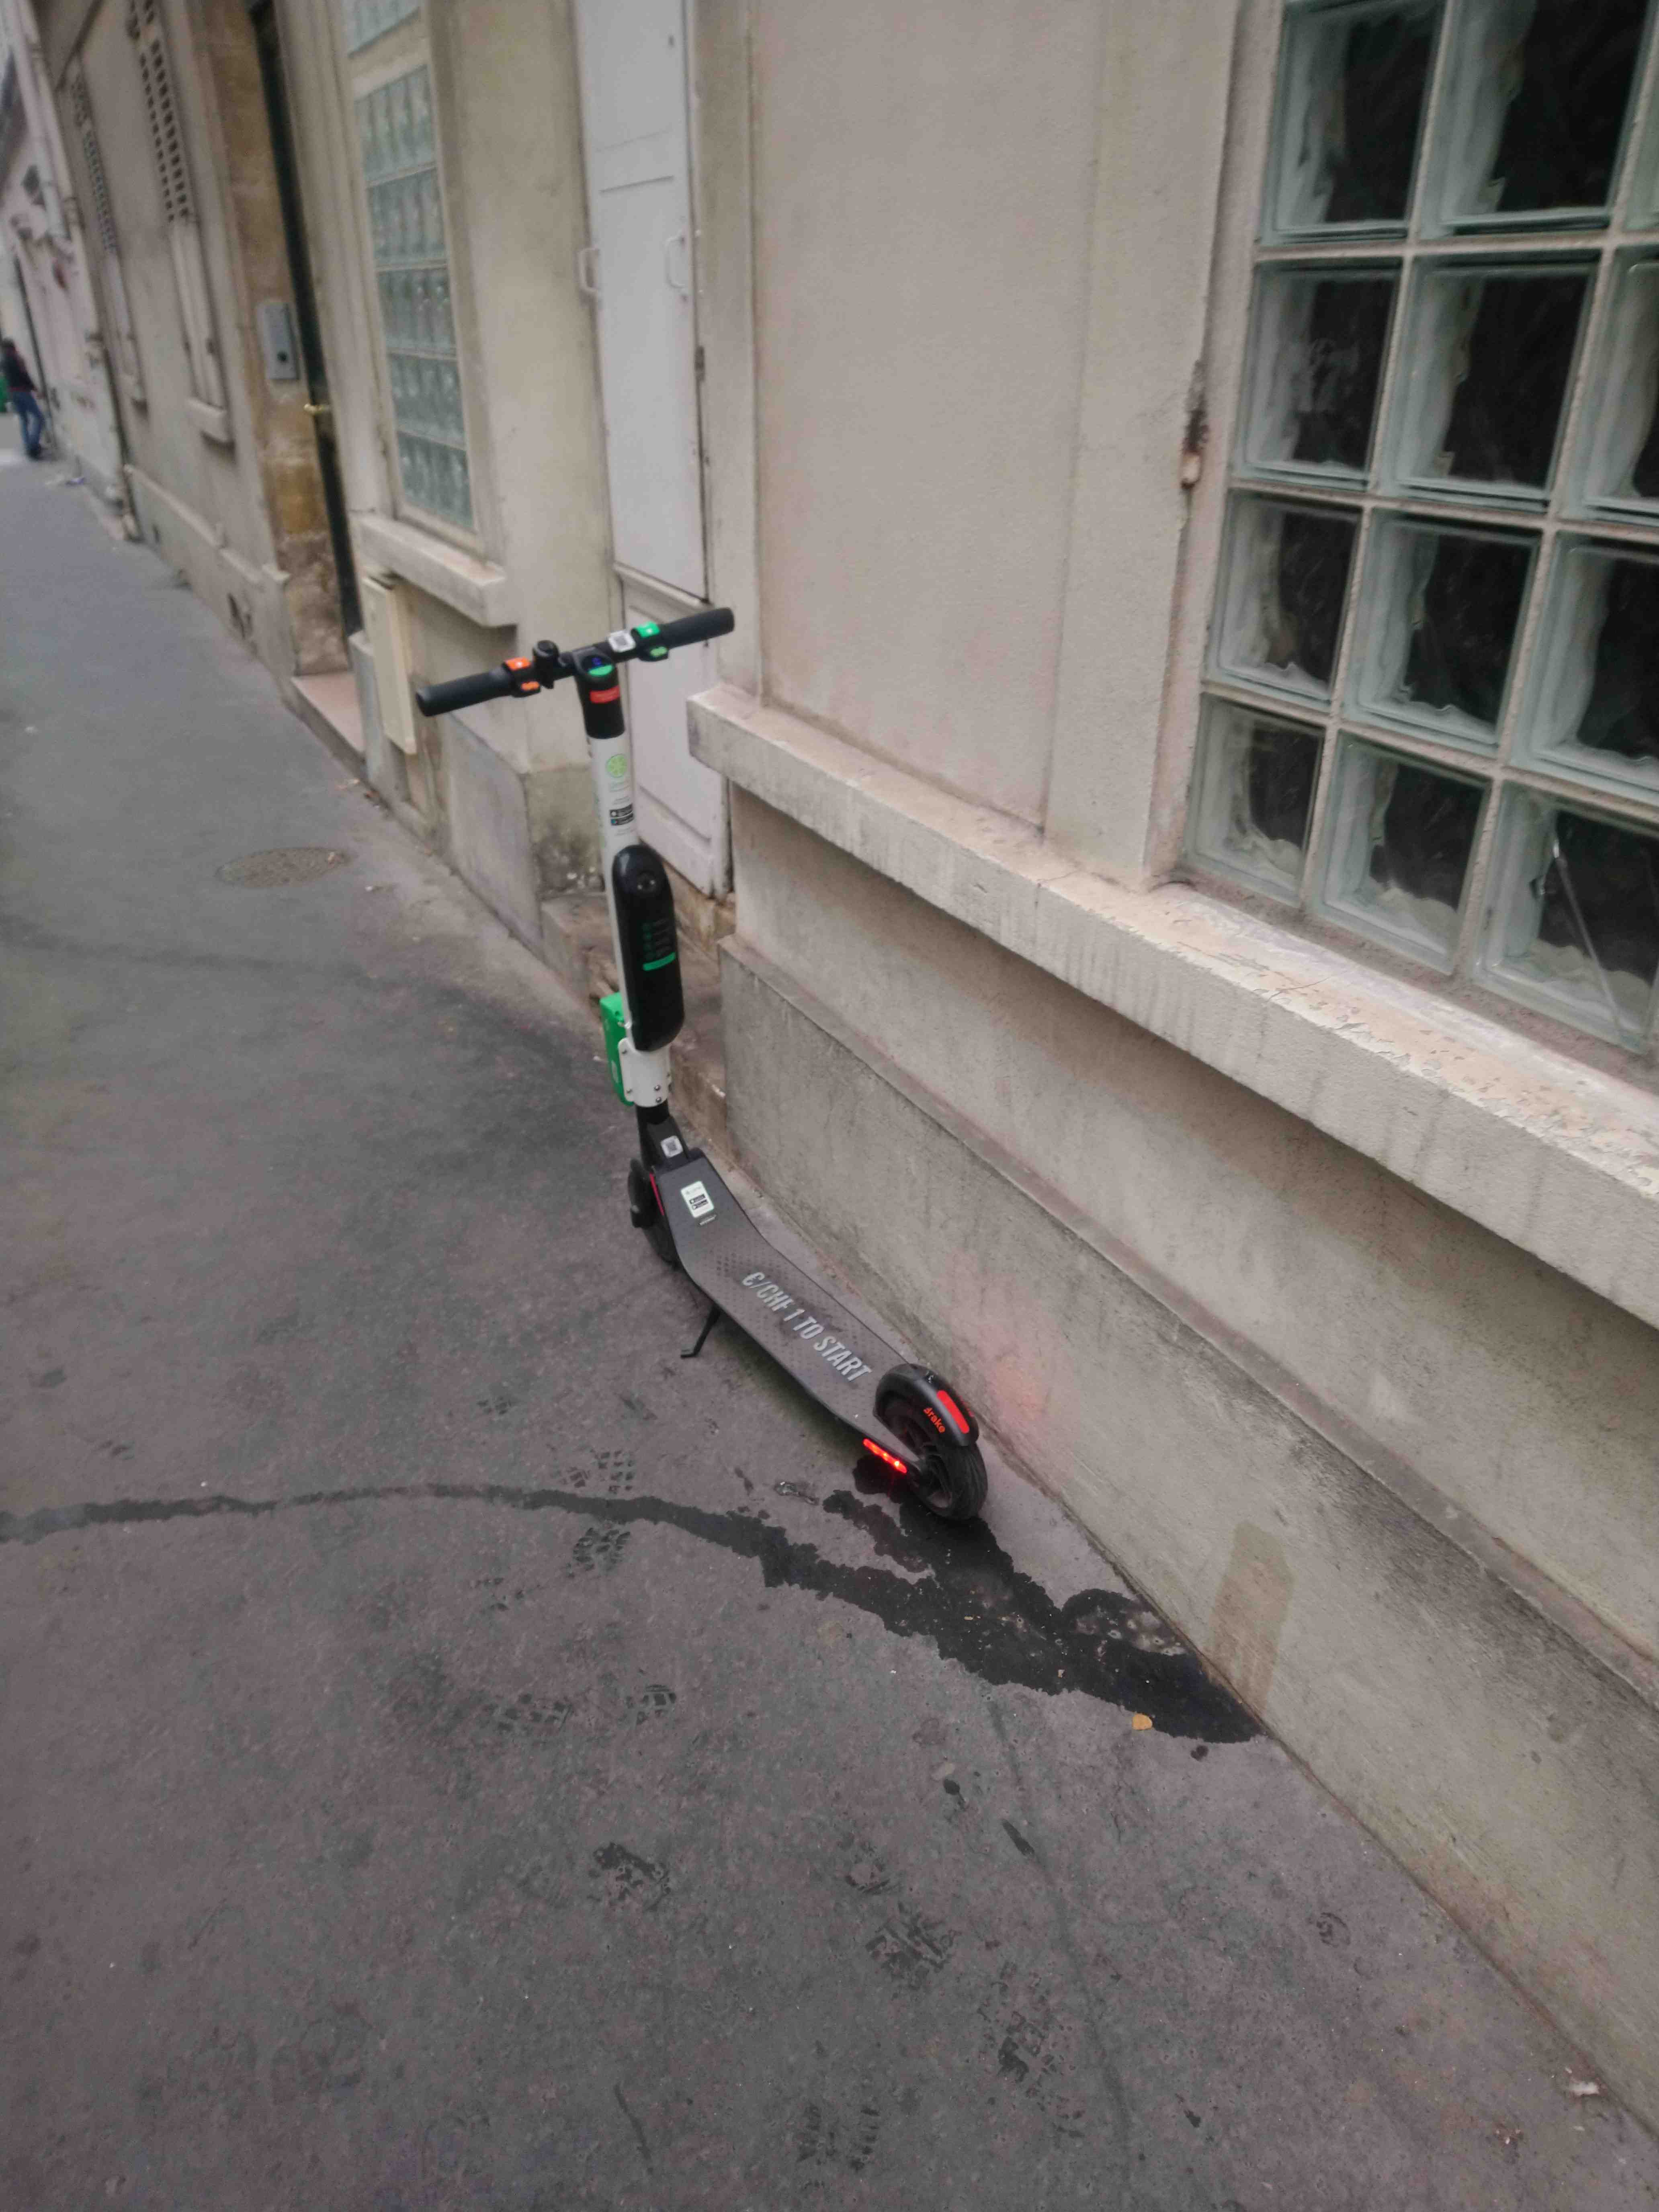scooter: (373, 587, 1026, 1568)
